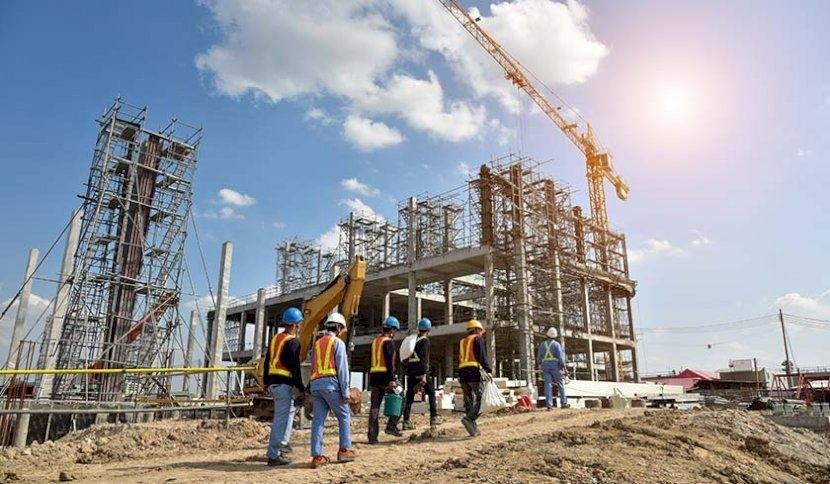With Helmet: (322, 310, 350, 339), (280, 307, 305, 334), (379, 314, 402, 338), (466, 319, 488, 337)
